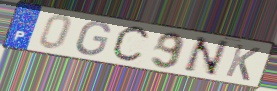0: (36, 14, 74, 51)
9: (151, 31, 187, 70)
C: (109, 25, 152, 64)
G: (73, 20, 112, 56)
K: (223, 43, 263, 83)
N: (180, 35, 231, 78)
